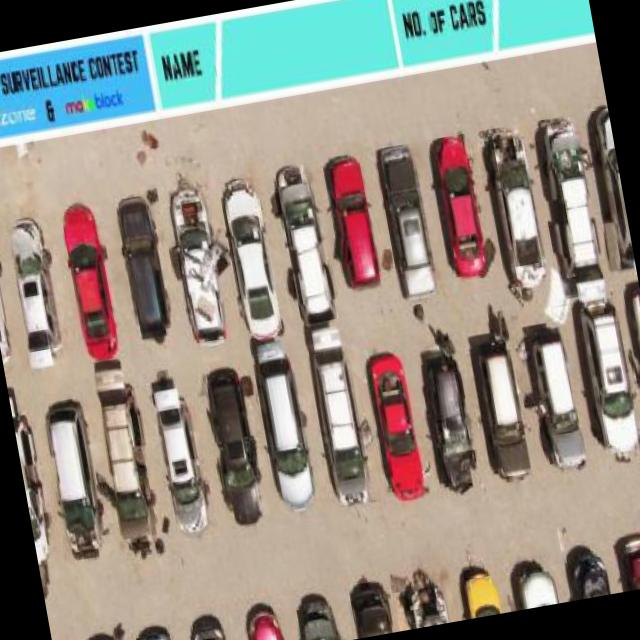car: (300, 317, 376, 511), (87, 360, 161, 548), (533, 104, 607, 284), (264, 153, 340, 327), (478, 122, 553, 298), (196, 358, 270, 534), (248, 334, 318, 514), (216, 176, 290, 345), (36, 393, 111, 559), (160, 183, 233, 352), (367, 133, 439, 304), (54, 197, 128, 360), (572, 290, 640, 467), (112, 183, 180, 349), (422, 128, 496, 280), (358, 347, 432, 499), (522, 324, 596, 474), (413, 347, 485, 498), (3, 210, 69, 374), (147, 386, 216, 537), (470, 336, 540, 484), (316, 148, 387, 292), (8, 389, 58, 559), (587, 104, 636, 274), (340, 566, 397, 640), (558, 537, 615, 601), (398, 565, 451, 629), (289, 584, 342, 640), (454, 561, 502, 619), (624, 282, 640, 449), (0, 228, 17, 364), (512, 562, 558, 610), (237, 599, 285, 640), (183, 609, 234, 640), (618, 526, 640, 590), (130, 620, 184, 640)
